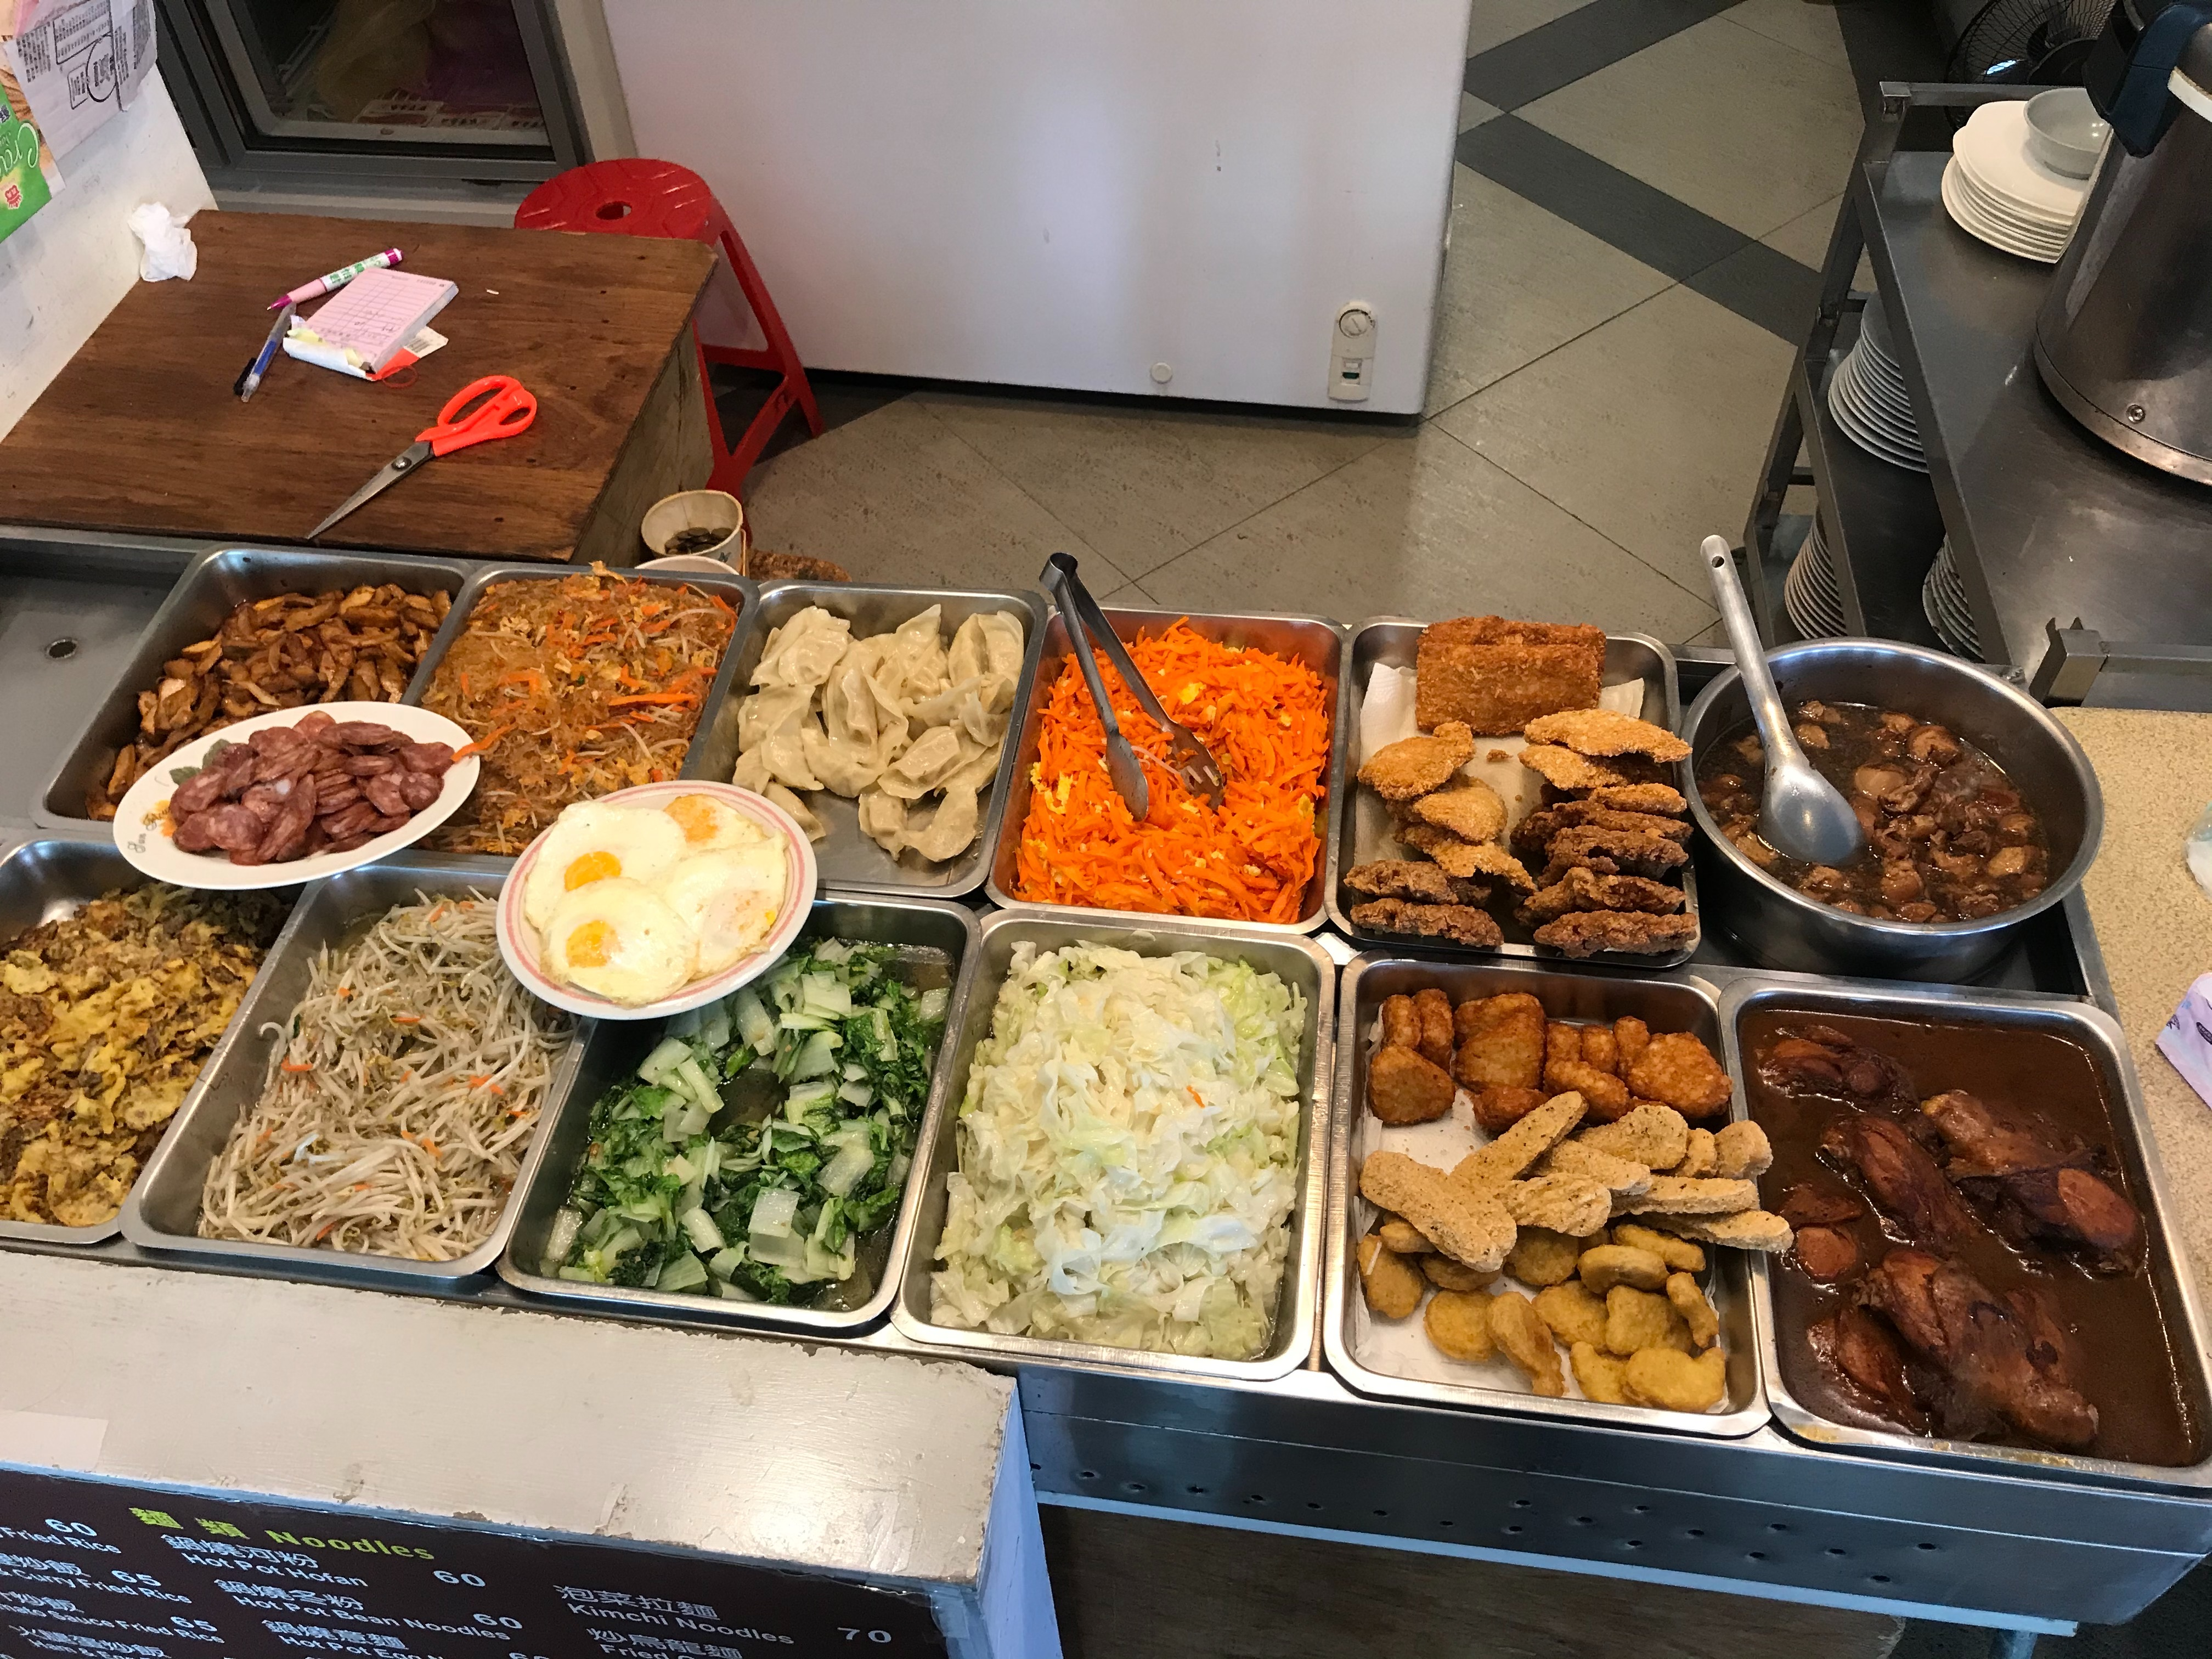carrot_eggs: (1049, 638, 1318, 903)
chicken_nuggets: (1386, 1253, 1738, 1396)
chinese_cabbage: (967, 957, 1284, 1331)
chinese_sausage: (150, 725, 435, 857)
fried_dumplings: (772, 608, 1003, 789)
fried_eggs: (519, 795, 784, 1000)
mung_bean_sprouts: (289, 911, 496, 1243)
